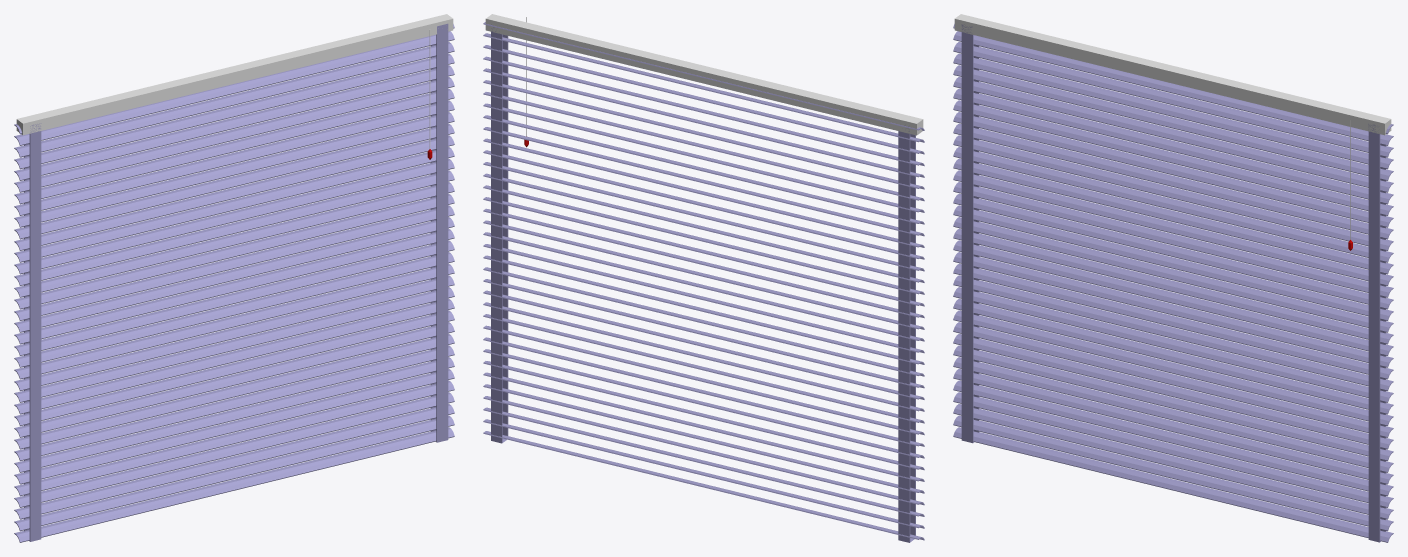
The model's file is blinds.fbx.
3 views of the same model, side by side, from view 1: azimuth 30°, elevation 25°; view 2: azimuth 150°, elevation 25°; view 3: azimuth 330°, elevation 25° (orthographic).
Parts seen in each view (by area): view 1: Blinds, top; view 2: Blinds, top; view 3: Blinds, top.
Part boxes in pixels (bbox=[...]): Blinds: bbox=[14, 23, 454, 542]; top: bbox=[16, 14, 453, 135]; Blinds: bbox=[483, 22, 924, 542]; top: bbox=[485, 14, 923, 135]; Blinds: bbox=[953, 24, 1393, 542]; top: bbox=[954, 14, 1391, 135].
Size of the model in its own units: 7791 by 7196 by 412.
